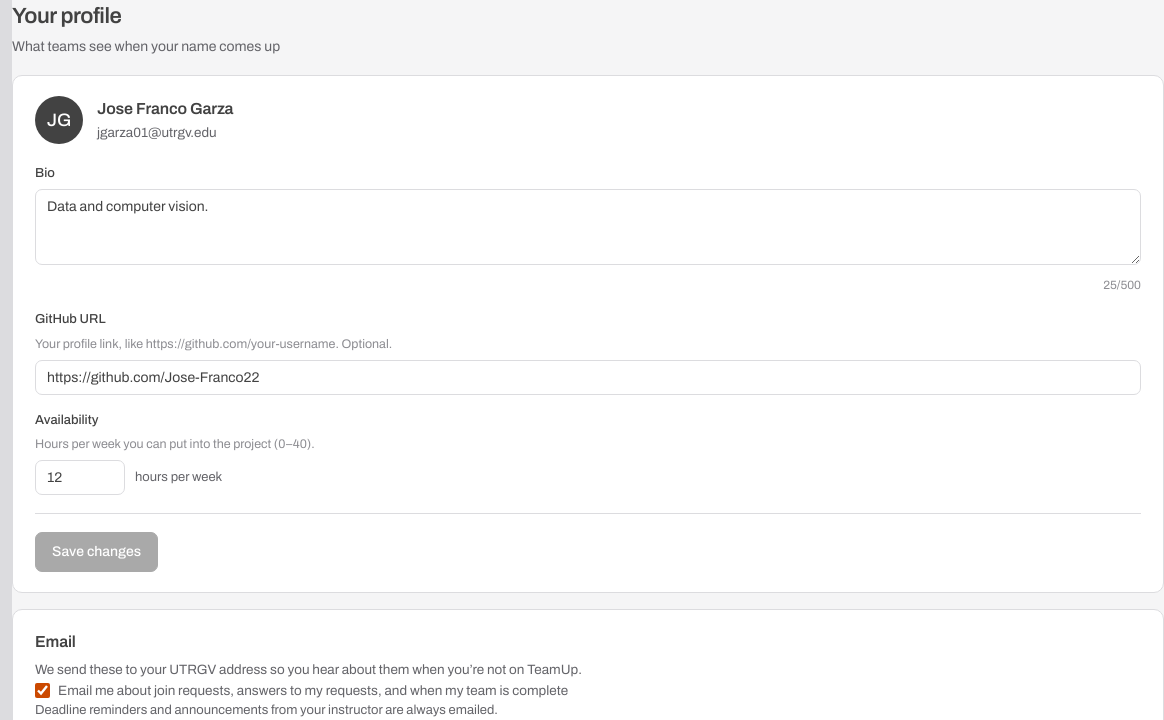
saving › valid changes save trimmed values and show "Saved"
Expected: the heading "Your profile" is shown, [12,4,121,28]
Replace the text in the text box labelled "Bio" with "  Backend and data.  " at (588, 226), box [35,188,1141,264]
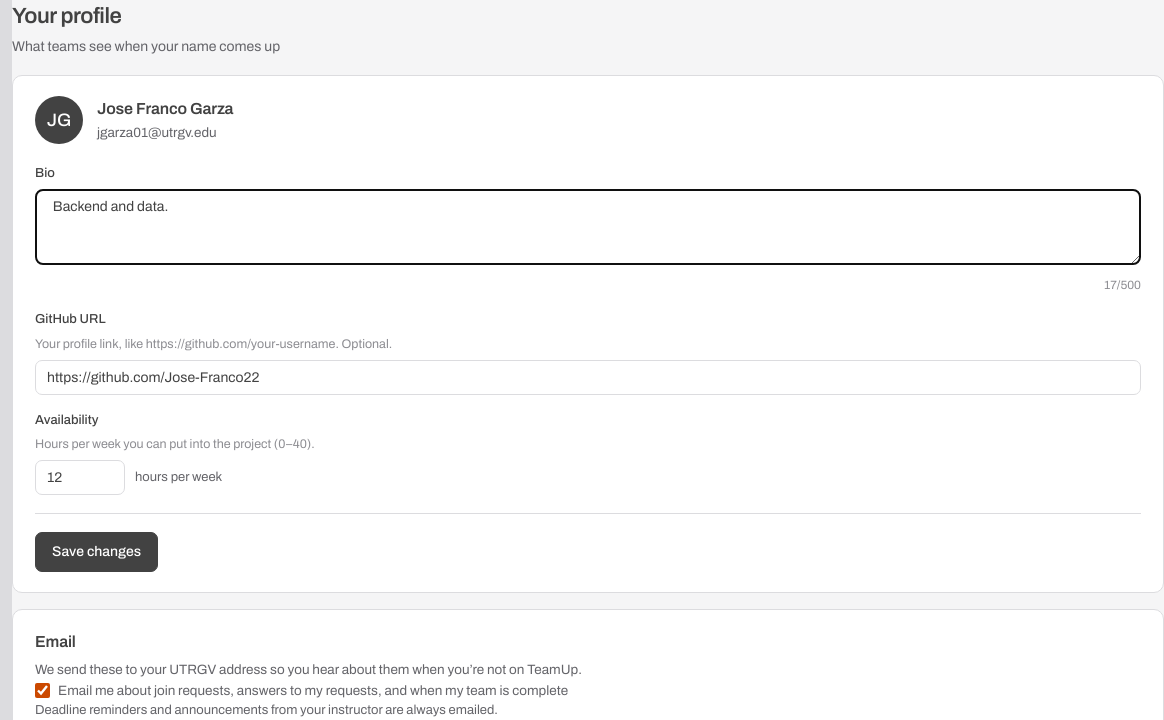
Replace the text in the number field labelled "Availability" with "20" at (80, 478), box [35,460,125,495]
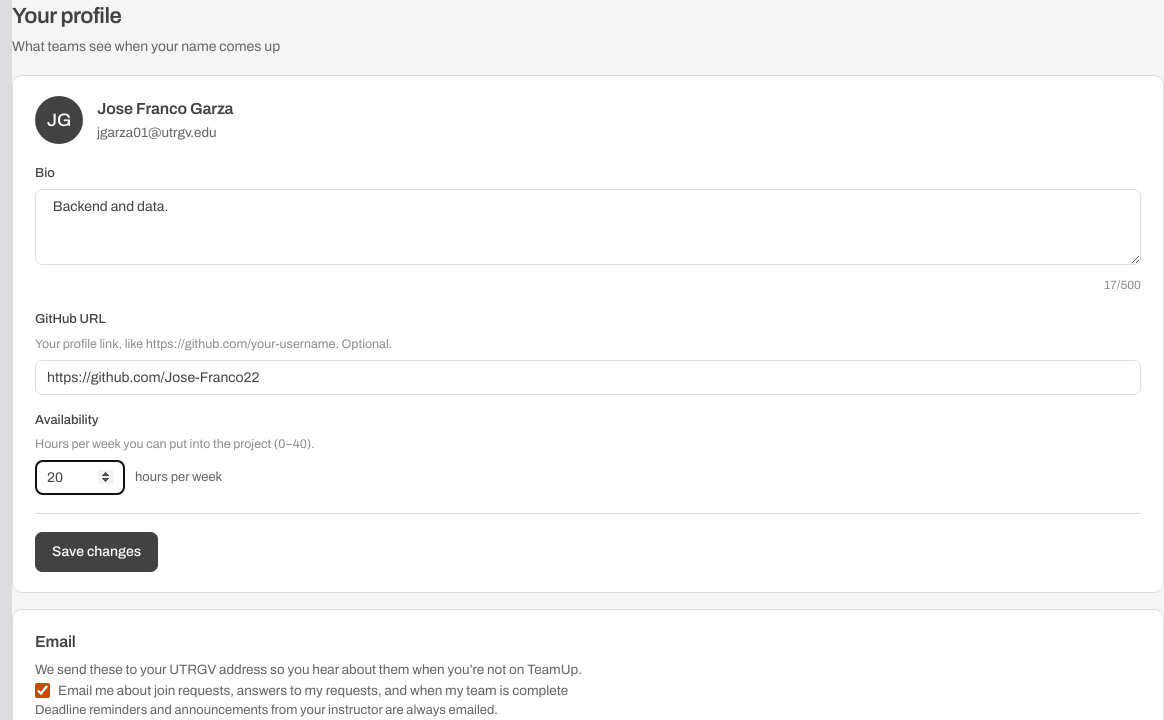
Click the button "Save changes" at (97, 552), box [35,532,158,572]
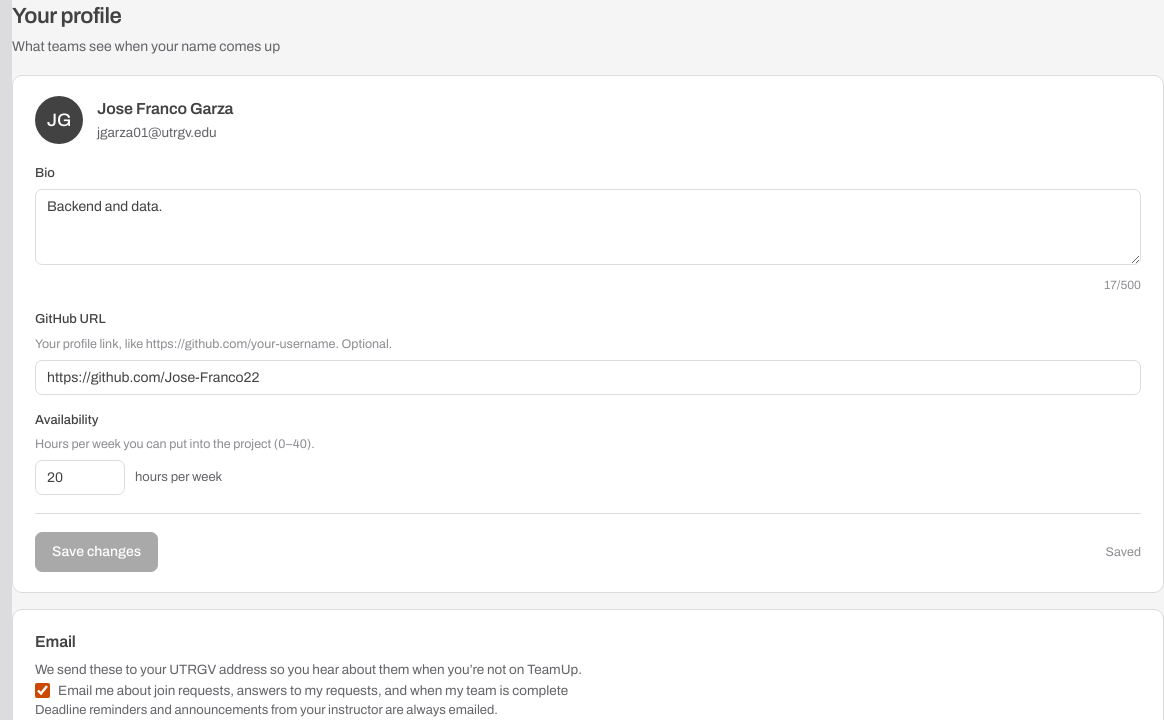
Expected: the text "Saved" is shown, [1106,543,1141,562]
